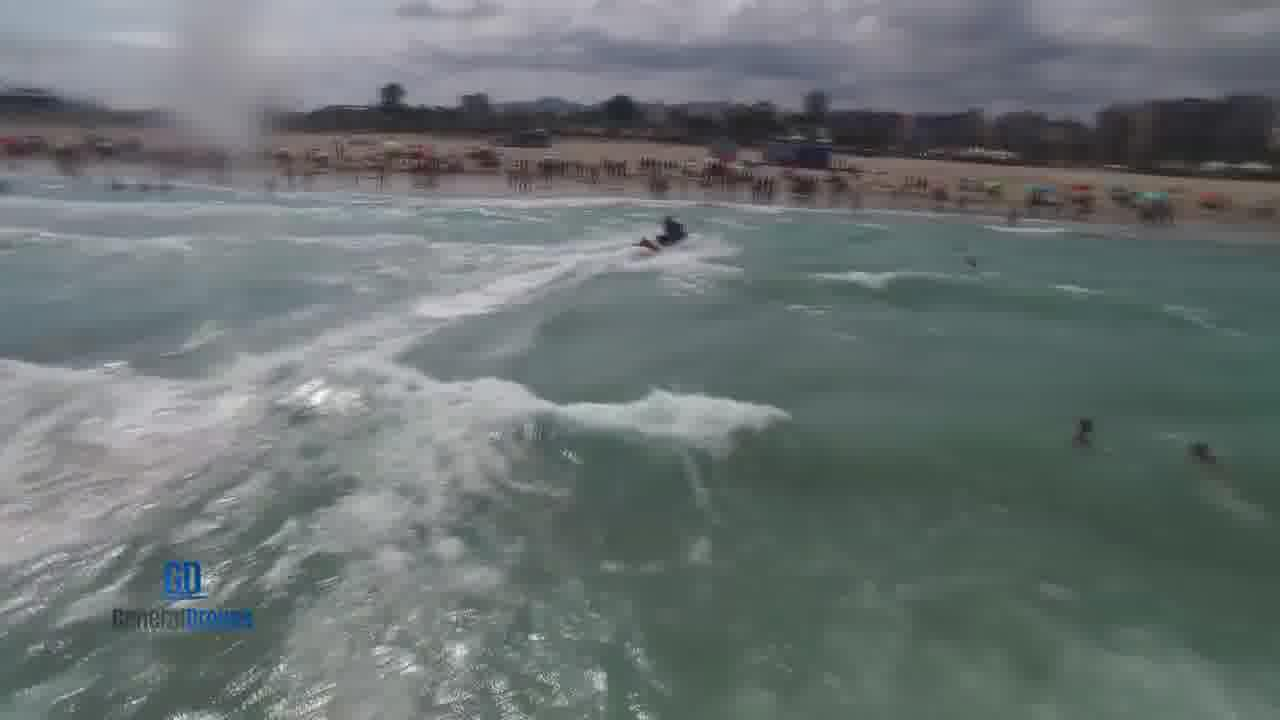human: (1049, 397, 1096, 465), (1162, 431, 1234, 471)
